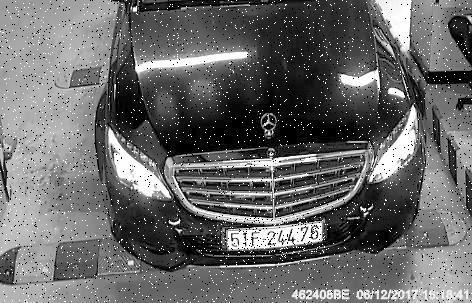License-plate: (218, 218, 326, 255)
